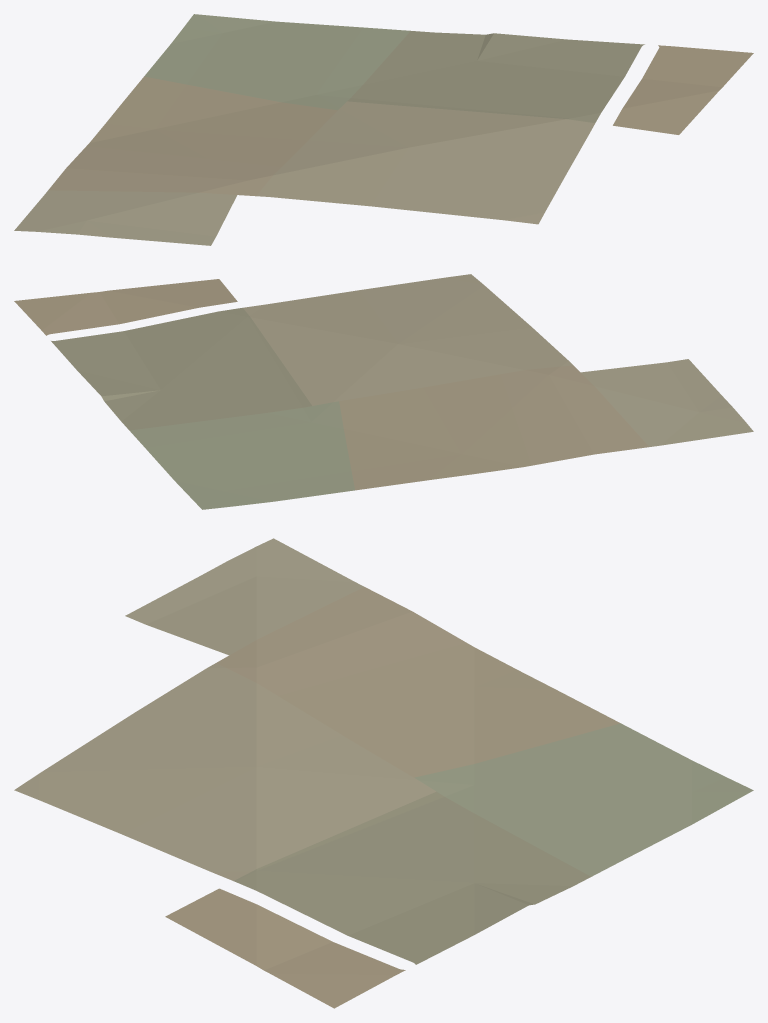
Rendered from farm_19_21_soil.glb.
The picture shows the model from 3 angles, top to bottom: view 1: azimuth 30°, elevation 25°; view 2: azimuth 150°, elevation 25°; view 3: azimuth 270°, elevation 25°; orthographic projection. The views are drawn at different scales.
Visible parts, largest first — view 1: geometry_0; view 2: geometry_0; view 3: geometry_0.
Boxes of the visible parts, x1=… form: geometry_0: x1=14, y1=14, x2=753, y2=245; geometry_0: x1=14, y1=274, x2=753, y2=509; geometry_0: x1=14, y1=538, x2=753, y2=1008.
Bounding box in the file's own units: 380 × 14.29 × 272.
